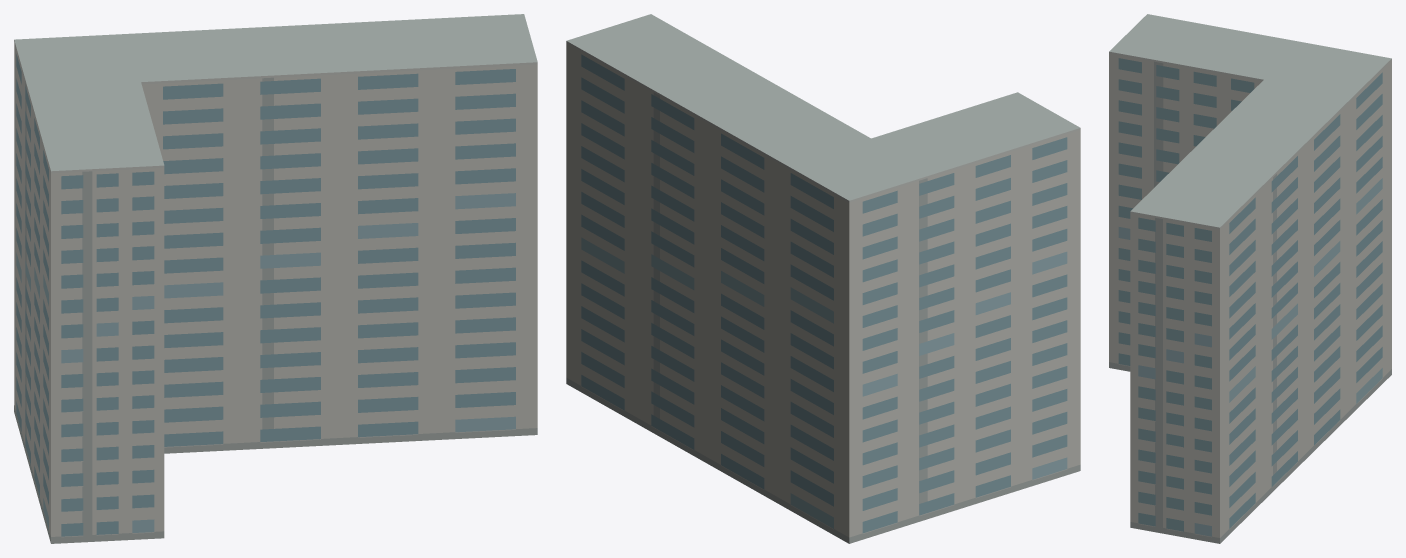
File: residential-a8f475a7-0e3d-4631-b10f-3faed70c3208.glb
The picture shows the model from 3 angles, left to right: view 1: azimuth 30°, elevation 25°; view 2: azimuth 150°, elevation 25°; view 3: azimuth 270°, elevation 25°; orthographic projection. The views are drawn at different scales.
Parts seen in each view (by area): view 1: residential-a8f475a7-0e3d-4631-b10f-3faed70c3208.tmp; view 2: residential-a8f475a7-0e3d-4631-b10f-3faed70c3208.tmp; view 3: residential-a8f475a7-0e3d-4631-b10f-3faed70c3208.tmp.
Boxes of the visible parts, x1,y1,x2,y2 form: residential-a8f475a7-0e3d-4631-b10f-3faed70c3208.tmp: (14, 14, 537, 543); residential-a8f475a7-0e3d-4631-b10f-3faed70c3208.tmp: (566, 14, 1080, 543); residential-a8f475a7-0e3d-4631-b10f-3faed70c3208.tmp: (1109, 14, 1391, 543).
Size of the model in its own units: 60.85 by 42 by 34.05.
